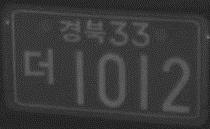0: (98, 53, 127, 108)
1: (131, 55, 157, 110), (68, 51, 91, 105)
2: (162, 56, 192, 112)
3: (109, 20, 128, 47), (130, 22, 150, 47)
경북_O: (60, 19, 106, 45)
더: (23, 48, 55, 86)
